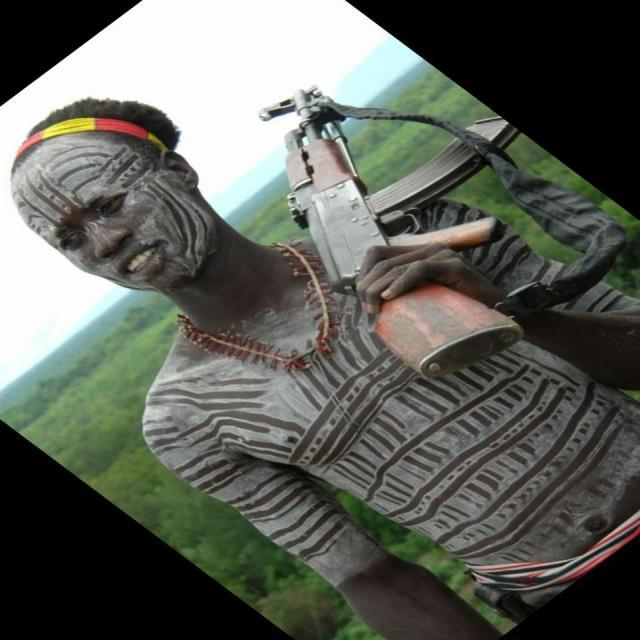weapon: (260, 90, 524, 382)
